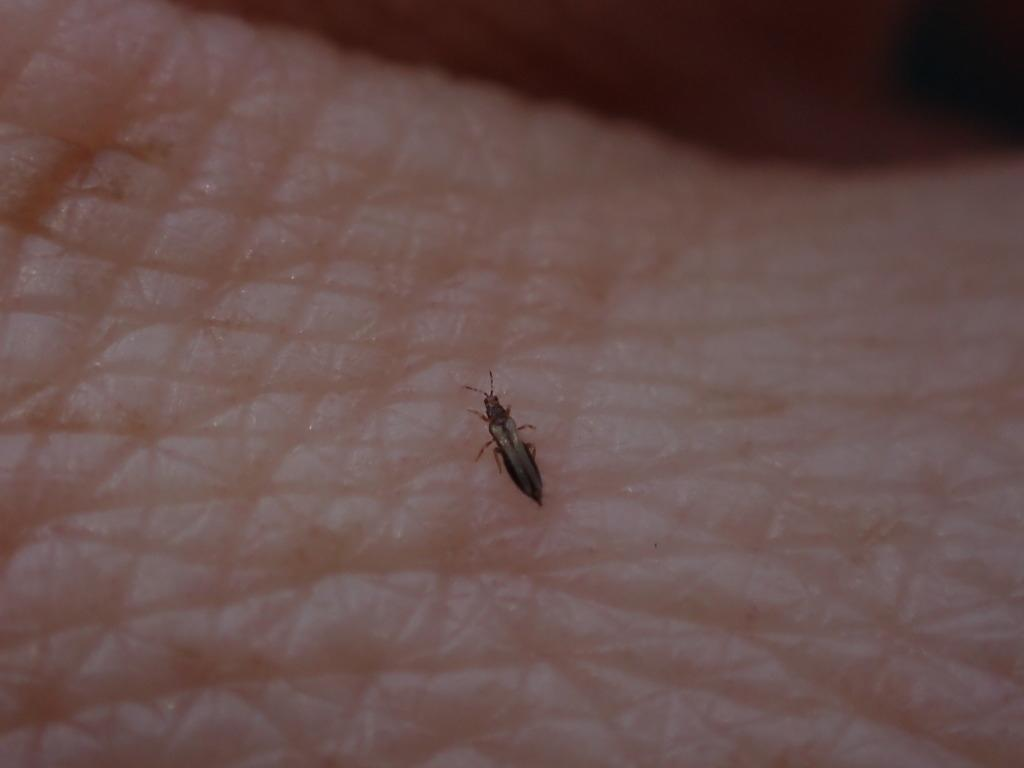tiny_pests: (438, 347, 597, 541)
